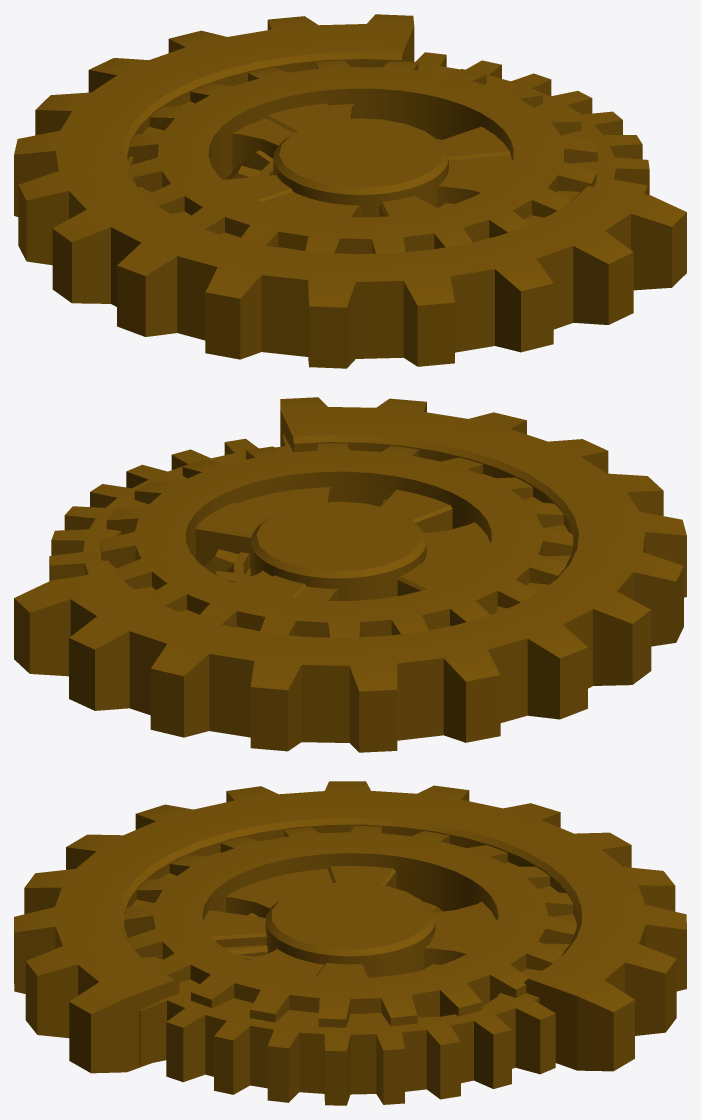
Rendered from SM_Cogs.fbx.
The picture shows the model from 3 angles, top to bottom: view 1: azimuth 30°, elevation 25°; view 2: azimuth 150°, elevation 25°; view 3: azimuth 270°, elevation 25°; orthographic projection. The views are drawn at different scales.
Visible parts, largest first — view 1: _Partial, _12R_20T_5D, _15R_30T_7D, _8R_15T_3D_Turn; view 2: _Partial, _12R_20T_5D, _15R_30T_7D, _8R_15T_3D_Turn; view 3: _Partial, _12R_20T_5D, _15R_30T_7D.
Part boxes in pixels (left/top/right/bottom): _Partial: left=14, top=14, right=686, bottom=368; _12R_20T_5D: left=128, top=60, right=597, bottom=254; _15R_30T_7D: left=128, top=52, right=649, bottom=250; _8R_15T_3D_Turn: left=225, top=139, right=453, bottom=208; _Partial: left=14, top=397, right=686, bottom=752; _12R_20T_5D: left=100, top=443, right=573, bottom=637; _15R_30T_7D: left=49, top=434, right=570, bottom=637; _8R_15T_3D_Turn: left=201, top=549, right=249, bottom=582; _Partial: left=14, top=781, right=686, bottom=1073; _12R_20T_5D: left=124, top=826, right=576, bottom=1027; _15R_30T_7D: left=124, top=852, right=576, bottom=1105.
Bounding box in the file's own units: 37.44 × 5 × 40.91.
